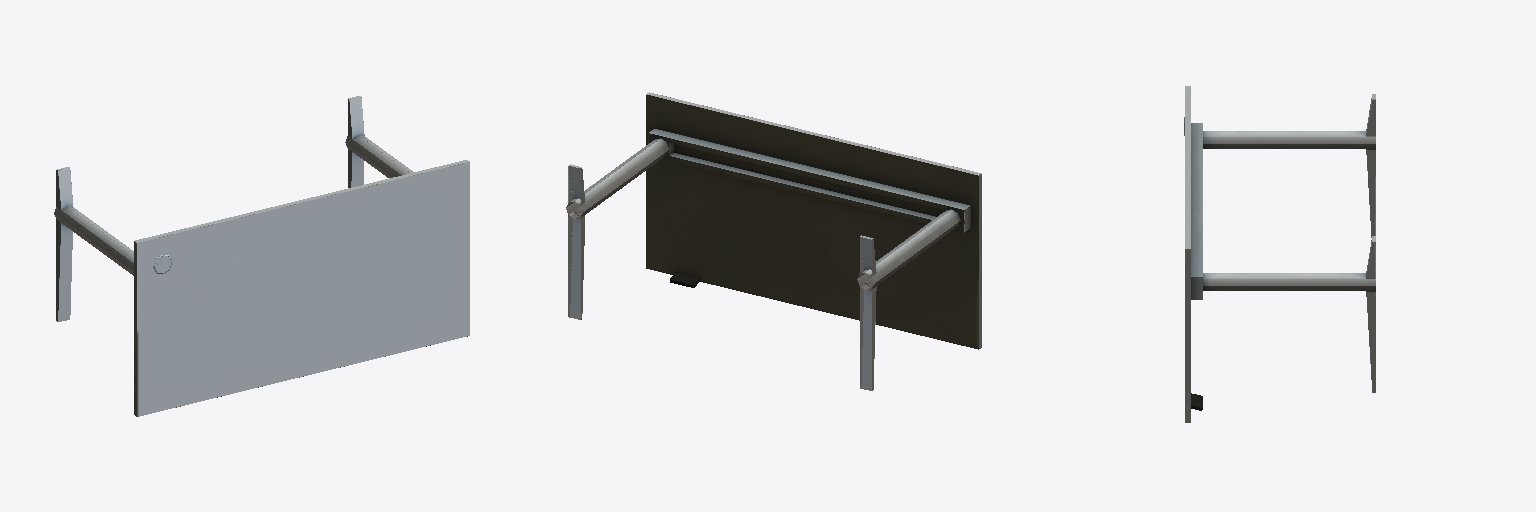
The picture shows the model from 3 angles: view 1: azimuth 30°, elevation 25°; view 2: azimuth 150°, elevation 25°; view 3: azimuth 270°, elevation 25°; orthographic projection.
Parts seen in each view (by area): view 1: table_Cylinder.001; view 2: table_Cylinder.001; view 3: table_Cylinder.001.
Part boxes in pixels (left/top/right/bottom): table_Cylinder.001: left=54, top=96, right=469, bottom=416; table_Cylinder.001: left=566, top=92, right=981, bottom=390; table_Cylinder.001: left=1184, top=86, right=1375, bottom=422.
Size of the model in its own units: 1.6 by 0.8122 by 0.7961.
1 materials, 1 textured.